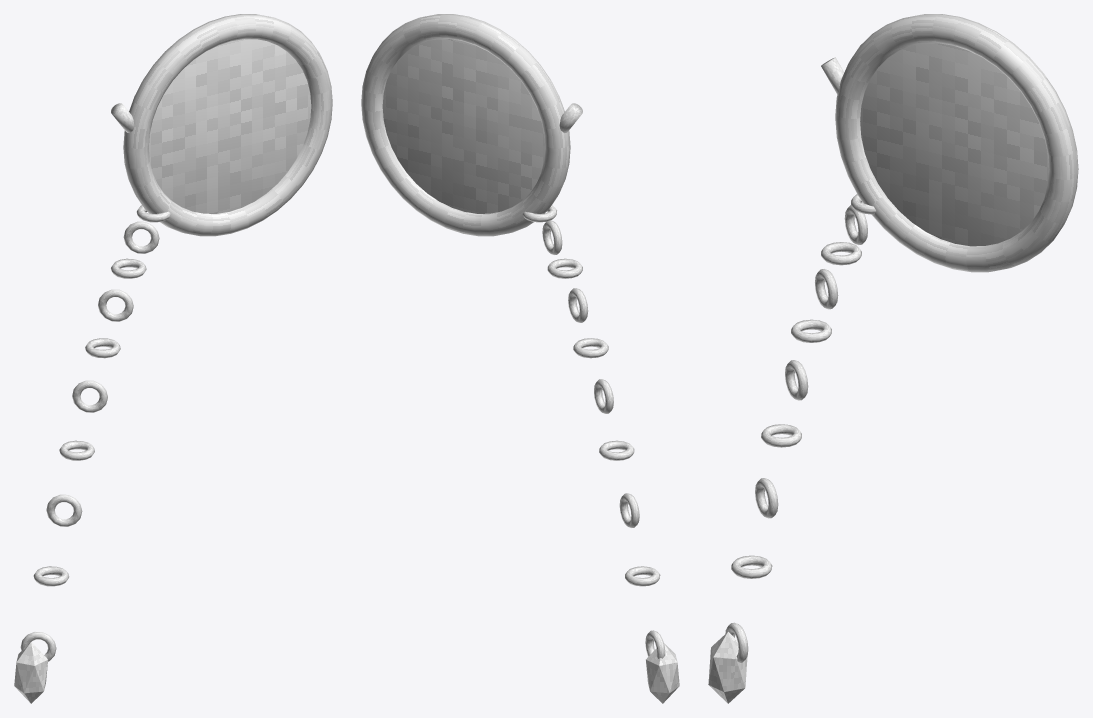
Rendered from error.obj.
3 renders of one model, left to right at view 1: azimuth 30°, elevation 25°; view 2: azimuth 150°, elevation 25°; view 3: azimuth 330°, elevation 25°, orthographic. The views are drawn at different scales.
Bounding box in the file's own units: 0.4899 × 0.95 × 0.0486.
